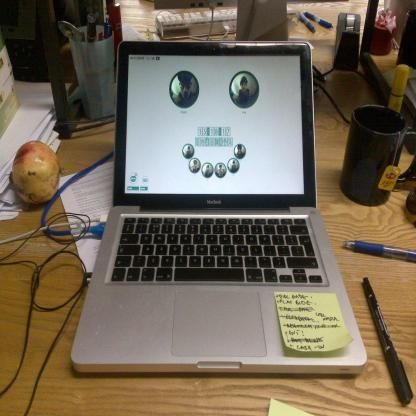board: (71, 38, 366, 374)
